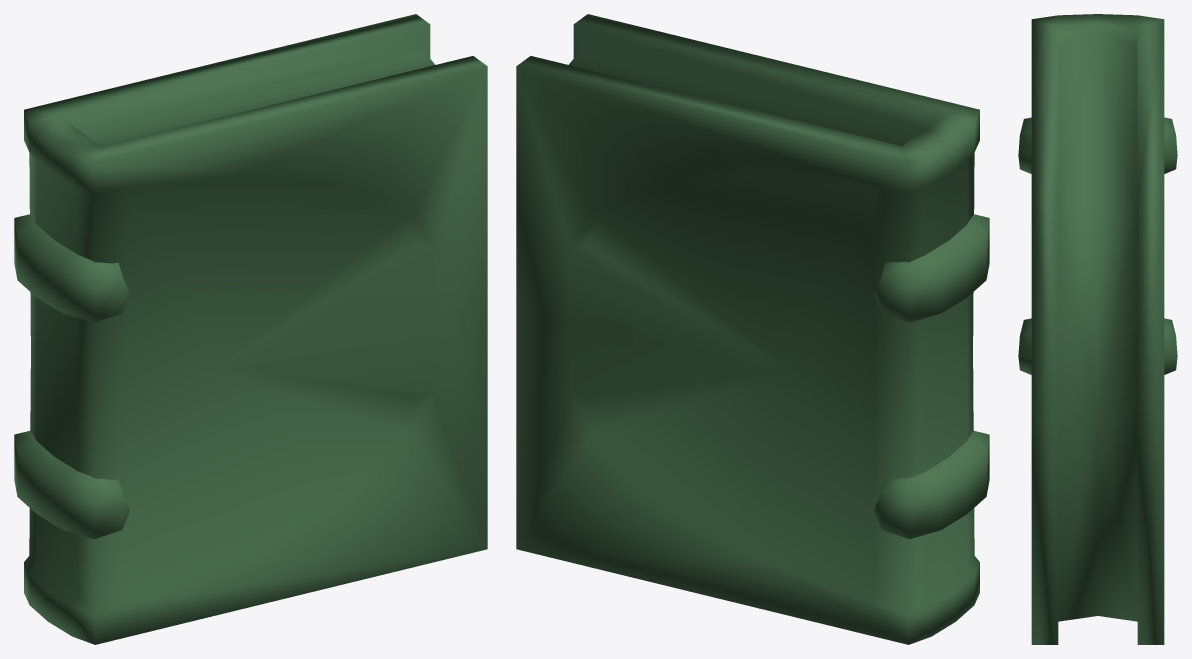
File: SM_1hand_book_Tier2.fbx
The picture shows the model from 3 angles, left to right: view 1: azimuth 30°, elevation 25°; view 2: azimuth 150°, elevation 25°; view 3: azimuth 270°, elevation 25°; orthographic projection. The views are drawn at different scales.
Parts seen in each view (by area): view 1: Weapon_Paladin_02; view 2: Weapon_Paladin_02; view 3: Weapon_Paladin_02.
Boxes of the visible parts, box(x1,y1,x2,y2) form: Weapon_Paladin_02: box(14, 14, 487, 644); Weapon_Paladin_02: box(516, 14, 989, 644); Weapon_Paladin_02: box(1018, 14, 1177, 644).
Size of the model in its own units: 30.91 by 34.38 by 11.07.
1 material, 1 textured.
